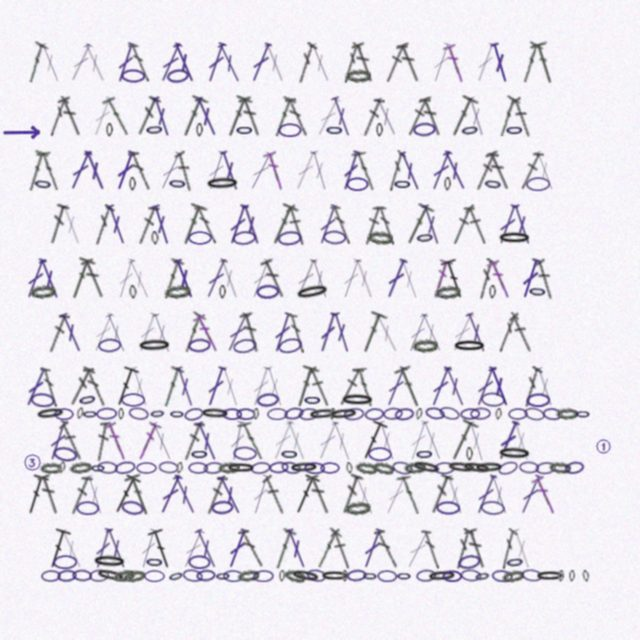chain: (294, 282, 331, 302), (411, 459, 442, 476), (95, 567, 126, 584), (205, 176, 240, 191), (137, 338, 172, 353), (497, 446, 532, 461), (92, 554, 127, 569), (461, 460, 492, 476), (290, 568, 321, 584), (277, 336, 303, 355), (497, 231, 532, 245), (452, 339, 487, 353), (340, 393, 375, 407), (232, 337, 258, 355), (52, 445, 78, 463), (35, 406, 66, 421), (446, 460, 477, 475), (29, 283, 56, 300), (164, 283, 191, 300), (120, 499, 145, 517), (457, 553, 482, 571), (328, 407, 359, 421), (434, 284, 461, 300), (344, 500, 371, 516), (308, 407, 338, 421), (427, 569, 457, 583), (112, 567, 136, 584), (232, 230, 257, 246), (277, 230, 302, 246), (30, 392, 55, 408), (480, 500, 505, 516), (497, 459, 519, 477), (438, 405, 461, 422), (345, 68, 371, 83), (367, 230, 393, 245), (412, 338, 438, 353), (200, 407, 230, 420), (289, 461, 319, 474), (474, 461, 504, 474), (166, 68, 190, 84), (256, 392, 280, 408), (122, 568, 146, 584), (283, 568, 307, 584), (501, 568, 525, 584), (523, 406, 546, 422), (372, 460, 395, 476), (391, 460, 414, 476), (481, 392, 505, 407), (233, 446, 257, 461), (226, 462, 256, 474), (320, 570, 350, 582), (535, 570, 565, 582), (77, 391, 98, 408), (183, 406, 205, 422), (280, 460, 302, 476), (413, 122, 436, 137), (323, 230, 346, 245), (256, 284, 279, 299), (98, 338, 121, 353), (188, 338, 211, 353), (69, 460, 92, 475), (211, 500, 234, 515), (237, 568, 260, 583), (121, 69, 145, 83), (278, 123, 302, 137), (526, 177, 550, 191), (188, 231, 212, 245), (121, 393, 145, 407), (526, 393, 550, 407), (368, 447, 392, 461), (436, 501, 460, 515), (53, 555, 77, 569), (283, 406, 305, 421), (424, 406, 446, 421), (114, 460, 136, 475), (521, 568, 543, 583), (346, 177, 369, 191), (355, 461, 378, 475), (76, 501, 99, 515), (188, 555, 211, 569), (460, 122, 480, 138), (33, 176, 53, 192), (483, 176, 503, 192), (505, 554, 525, 570), (128, 406, 149, 421), (564, 460, 585, 475), (182, 568, 203, 583), (306, 568, 327, 583), (343, 407, 365, 421), (491, 569, 513, 583), (415, 230, 435, 245), (298, 407, 319, 421), (364, 407, 385, 421), (394, 407, 415, 421), (542, 407, 563, 421), (203, 461, 224, 475), (250, 461, 271, 475), (535, 461, 556, 475), (167, 568, 185, 584), (556, 407, 578, 420), (218, 461, 240, 474), (404, 461, 426, 474), (549, 461, 571, 474), (460, 569, 482, 582), (145, 122, 164, 137), (168, 176, 187, 191), (528, 284, 547, 299), (96, 407, 117, 420), (470, 407, 491, 420), (97, 461, 118, 474), (158, 461, 179, 474), (346, 569, 367, 582), (235, 123, 254, 137), (325, 123, 344, 137), (505, 123, 524, 137), (393, 177, 412, 191), (303, 393, 322, 407), (190, 447, 209, 461), (280, 447, 299, 461), (415, 447, 434, 461), (145, 555, 164, 569), (40, 462, 62, 474), (383, 407, 403, 420), (269, 461, 289, 474), (519, 461, 539, 474), (57, 569, 77, 582), (72, 569, 92, 582), (89, 569, 109, 582), (196, 569, 216, 582), (416, 569, 436, 582), (267, 408, 288, 420), (136, 462, 157, 474), (304, 462, 325, 474), (434, 462, 455, 474), (144, 570, 165, 582), (253, 570, 274, 582), (54, 408, 74, 420), (222, 408, 242, 420), (236, 408, 256, 420), (460, 408, 480, 420), (508, 408, 528, 420), (188, 462, 208, 474), (320, 462, 340, 474), (41, 570, 61, 582), (223, 570, 243, 582), (377, 570, 397, 582), (442, 570, 462, 582), (474, 569, 491, 583), (149, 407, 166, 420), (82, 408, 98, 420), (169, 408, 185, 420), (575, 408, 591, 420), (90, 462, 106, 474), (215, 570, 231, 582), (362, 570, 378, 582), (396, 570, 412, 582), (151, 231, 159, 245), (129, 285, 137, 299), (76, 407, 84, 420), (58, 461, 66, 474), (106, 123, 113, 137), (196, 123, 203, 137), (376, 123, 383, 137), (129, 177, 136, 191), (444, 177, 451, 191), (219, 285, 226, 299), (489, 285, 496, 299), (466, 447, 473, 461), (415, 408, 423, 420), (582, 570, 590, 582), (329, 408, 336, 420), (495, 408, 502, 420), (176, 462, 183, 474), (346, 462, 353, 474), (118, 408, 124, 420), (253, 408, 259, 420), (279, 570, 285, 582), (342, 570, 348, 582), (558, 570, 564, 582), (569, 570, 575, 582)
double: (401, 203, 435, 247), (446, 95, 479, 139), (446, 419, 479, 463), (109, 473, 142, 517), (177, 95, 209, 139), (267, 203, 299, 247), (394, 365, 426, 409), (357, 419, 389, 463), (222, 95, 253, 139), (177, 203, 208, 247), (357, 311, 388, 355), (124, 473, 155, 517), (290, 473, 321, 517), (101, 95, 132, 138), (312, 527, 343, 570), (66, 257, 96, 301), (245, 150, 276, 192), (402, 528, 433, 570), (66, 41, 96, 84), (80, 41, 110, 84), (440, 149, 470, 192), (237, 419, 267, 462), (170, 473, 200, 516), (530, 41, 559, 85), (440, 257, 469, 301), (111, 365, 140, 409), (291, 365, 320, 409), (147, 527, 176, 571), (313, 96, 343, 138), (192, 312, 222, 354), (372, 312, 402, 354), (66, 366, 96, 408), (215, 474, 245, 516), (156, 41, 185, 84), (170, 41, 199, 84), (57, 95, 86, 138), (133, 95, 162, 138), (192, 95, 221, 138), (268, 95, 297, 138), (372, 95, 401, 138), (66, 149, 95, 192), (291, 149, 320, 192), (485, 149, 514, 192), (80, 257, 109, 300), (260, 257, 289, 300), (57, 311, 86, 354), (223, 311, 252, 354), (417, 311, 446, 354), (448, 311, 477, 354), (156, 473, 185, 516), (516, 473, 545, 516), (57, 527, 86, 570), (192, 527, 221, 570), (22, 473, 50, 517), (44, 527, 72, 571), (215, 42, 244, 84), (156, 150, 185, 192), (125, 258, 154, 300), (36, 41, 64, 84), (247, 41, 275, 84), (261, 41, 289, 84), (306, 41, 334, 84), (396, 41, 424, 84), (418, 95, 446, 138), (81, 149, 109, 192), (351, 149, 379, 192), (427, 149, 455, 192), (157, 257, 185, 300), (202, 257, 230, 300), (292, 257, 320, 300), (382, 257, 410, 300), (89, 311, 117, 354), (179, 311, 207, 354), (157, 365, 185, 408), (382, 365, 410, 408), (441, 365, 469, 408), (269, 419, 297, 462), (314, 419, 342, 462), (418, 419, 446, 462), (494, 419, 522, 462), (306, 473, 334, 516), (396, 473, 424, 516), (472, 473, 500, 516), (269, 527, 297, 570), (396, 150, 424, 192), (486, 258, 514, 300), (22, 366, 50, 408), (134, 420, 162, 462), (148, 420, 176, 462), (193, 420, 221, 462), (382, 474, 410, 516), (531, 474, 559, 516), (179, 528, 207, 570), (351, 41, 378, 84), (472, 41, 499, 84), (517, 41, 544, 84), (89, 95, 116, 138), (238, 95, 265, 138), (328, 95, 355, 138), (494, 95, 521, 138), (22, 149, 49, 192), (36, 149, 63, 192), (112, 149, 139, 192), (531, 149, 558, 192), (58, 203, 85, 246), (103, 203, 130, 246), (494, 203, 521, 246), (22, 257, 49, 300), (171, 257, 198, 300), (216, 257, 243, 300), (247, 257, 274, 300), (351, 257, 378, 300), (134, 311, 161, 354), (463, 311, 490, 354), (427, 365, 454, 408), (472, 365, 499, 408), (486, 365, 513, 408), (283, 419, 310, 462), (427, 473, 454, 516), (103, 527, 130, 570), (224, 527, 251, 570), (283, 527, 310, 570), (359, 527, 386, 570), (36, 258, 63, 300), (103, 312, 130, 354), (404, 312, 431, 354), (103, 420, 130, 462), (351, 474, 378, 516), (23, 41, 49, 84), (203, 41, 229, 84), (428, 41, 454, 84), (203, 149, 229, 192), (217, 149, 243, 192), (225, 203, 251, 246), (315, 203, 341, 246), (509, 203, 535, 246), (338, 257, 364, 300), (172, 365, 198, 408), (203, 365, 229, 408), (217, 365, 243, 408), (248, 365, 274, 408), (532, 365, 558, 408), (45, 419, 71, 462), (405, 419, 431, 462), (37, 473, 63, 516), (338, 473, 364, 516), (442, 473, 468, 516), (464, 527, 490, 570), (509, 527, 535, 570), (508, 312, 535, 353), (306, 366, 333, 407), (337, 366, 364, 407), (58, 420, 85, 461), (261, 474, 288, 515), (238, 528, 265, 569), (442, 42, 468, 84), (473, 150, 499, 192), (149, 312, 175, 354), (329, 420, 355, 462), (113, 41, 138, 84), (149, 95, 174, 138), (464, 95, 489, 138), (149, 203, 174, 246), (239, 203, 264, 246), (419, 203, 444, 246), (518, 257, 543, 300), (239, 311, 264, 354), (270, 311, 295, 354), (329, 311, 354, 354), (127, 365, 152, 408), (262, 365, 287, 408), (352, 365, 377, 408), (374, 419, 399, 462), (509, 419, 534, 462), (248, 473, 273, 516), (487, 473, 512, 516), (405, 96, 431, 137), (518, 150, 544, 191), (464, 204, 490, 245), (293, 42, 318, 84), (383, 42, 408, 84), (360, 96, 385, 138), (90, 204, 115, 246), (135, 204, 160, 246), (450, 204, 475, 246), (397, 258, 422, 300), (68, 474, 93, 516), (329, 528, 354, 570), (374, 528, 399, 570), (488, 41, 512, 84), (263, 149, 287, 192), (339, 149, 363, 192), (46, 203, 70, 246), (114, 257, 138, 300), (308, 257, 332, 300), (429, 257, 453, 300), (316, 311, 340, 354), (83, 473, 107, 516), (91, 527, 115, 570), (136, 527, 160, 570), (194, 204, 219, 245), (495, 312, 520, 353), (285, 96, 309, 138), (510, 96, 534, 138), (128, 150, 152, 192), (46, 312, 70, 354), (83, 366, 107, 408), (519, 366, 543, 408), (181, 420, 205, 462), (204, 474, 228, 516), (308, 149, 331, 192), (128, 42, 152, 83), (46, 96, 70, 137), (285, 204, 308, 246), (474, 258, 497, 300), (465, 420, 488, 462), (451, 528, 474, 570), (330, 204, 353, 245), (340, 42, 362, 84), (385, 150, 407, 192), (362, 204, 384, 246), (534, 258, 556, 300), (174, 150, 195, 192), (376, 204, 397, 246), (227, 420, 248, 462), (421, 528, 442, 570), (287, 312, 307, 354), (40, 366, 60, 408), (498, 528, 518, 570), (94, 420, 111, 462)
noise: (2, 124, 42, 140), (22, 452, 42, 472), (594, 437, 613, 456)
